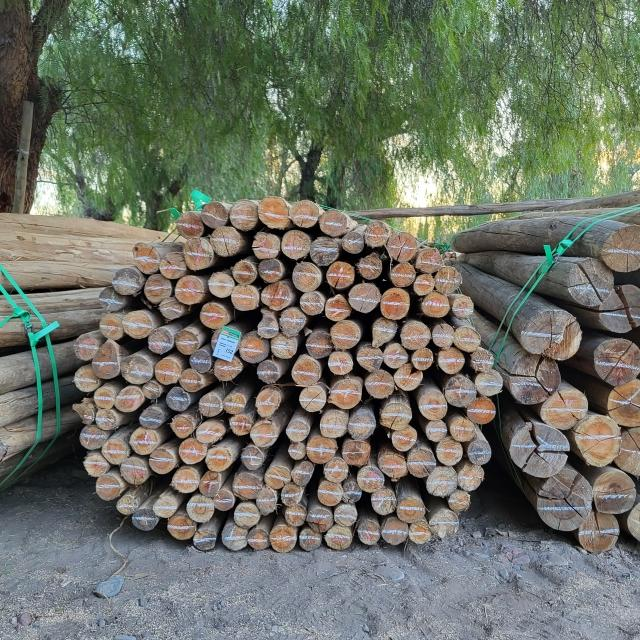package: (73, 196, 502, 552), (506, 205, 639, 552)
